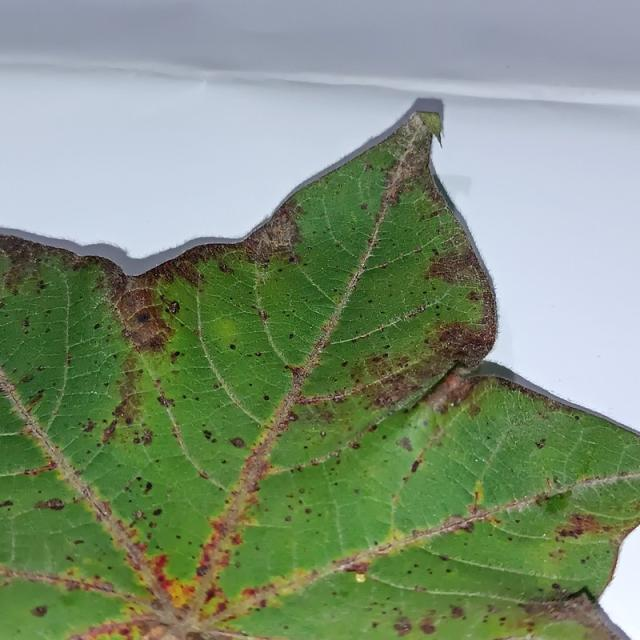Bacterial_Blight: (246, 204, 302, 259), (433, 320, 490, 365), (553, 512, 609, 539), (485, 609, 536, 636), (161, 574, 198, 610), (237, 581, 282, 609), (372, 382, 413, 409), (541, 491, 570, 514), (561, 586, 597, 604), (0, 374, 21, 404), (20, 461, 58, 476), (443, 371, 467, 394), (199, 596, 224, 618), (33, 498, 67, 511), (284, 362, 307, 381), (92, 500, 112, 520), (344, 561, 370, 576), (101, 420, 117, 444), (143, 624, 168, 639), (147, 332, 166, 351), (25, 389, 45, 407), (534, 428, 549, 451), (470, 487, 482, 515), (393, 616, 412, 633), (455, 520, 475, 534), (59, 593, 79, 607), (396, 436, 413, 452), (217, 260, 234, 275), (246, 478, 261, 495), (419, 620, 436, 635), (157, 394, 174, 408), (140, 429, 153, 446), (549, 548, 566, 561), (558, 528, 580, 538), (448, 605, 464, 618), (31, 605, 48, 617), (166, 300, 179, 315), (486, 514, 502, 526), (229, 437, 246, 448), (82, 420, 96, 433), (230, 532, 243, 546), (196, 564, 209, 577), (410, 459, 421, 473), (468, 290, 482, 301), (136, 313, 150, 324), (187, 634, 212, 640), (258, 309, 269, 322), (20, 374, 34, 384), (286, 411, 298, 422), (198, 470, 210, 480), (0, 499, 13, 508), (202, 430, 213, 440), (546, 477, 554, 490), (37, 279, 47, 289), (144, 481, 153, 492), (152, 507, 162, 516), (171, 350, 181, 359), (134, 510, 143, 520), (22, 318, 30, 328), (350, 441, 360, 449), (125, 416, 133, 425), (551, 582, 560, 590), (371, 622, 380, 630), (360, 202, 368, 210), (474, 490, 479, 502), (93, 322, 100, 330), (284, 515, 292, 522), (417, 305, 425, 312), (263, 394, 270, 401), (254, 351, 262, 357), (341, 361, 349, 367), (304, 508, 312, 514), (353, 488, 360, 494), (229, 343, 236, 349), (298, 488, 305, 494), (553, 476, 559, 483), (445, 568, 452, 574), (320, 430, 326, 437), (574, 414, 580, 420), (288, 333, 294, 339), (45, 327, 51, 333), (295, 215, 300, 220), (450, 402, 455, 407), (119, 412, 124, 417)
Cotton: (0, 103, 639, 639)
